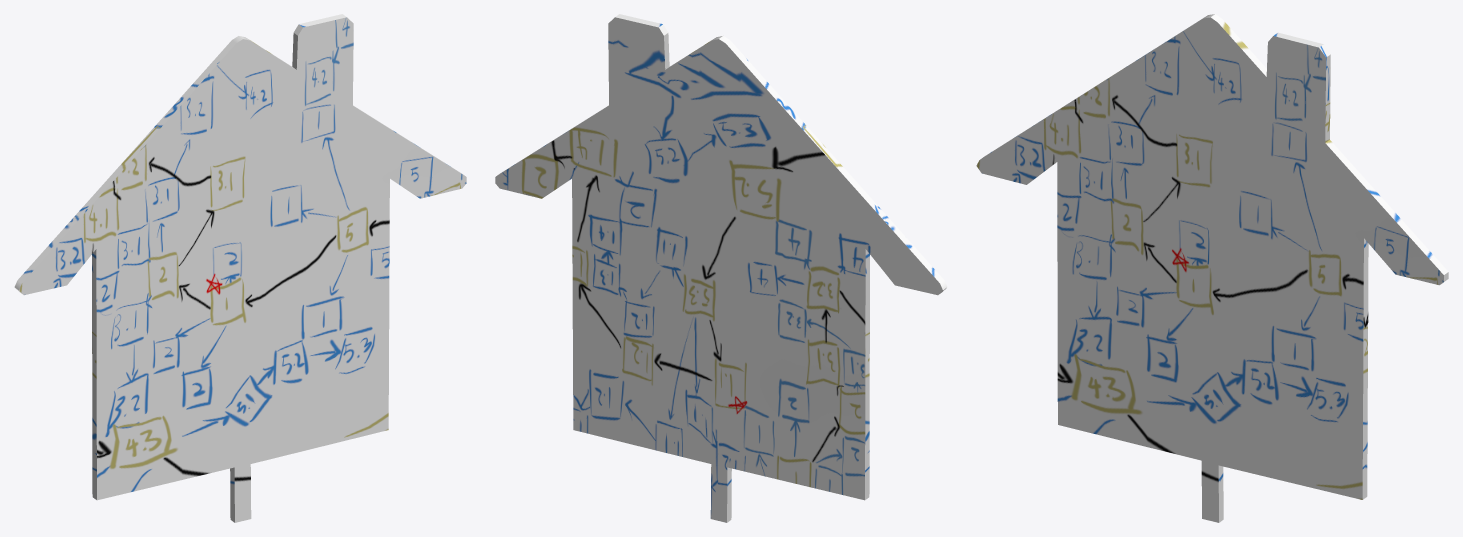
File: mhy_house.fbx
The picture shows the model from 3 angles, left to right: view 1: azimuth 30°, elevation 25°; view 2: azimuth 150°, elevation 25°; view 3: azimuth 330°, elevation 25°; orthographic projection. The views are drawn at different scales.
Visible parts, largest first — view 1: pCube3; view 2: pCube3; view 3: pCube3.
Boxes of the visible parts, box(x1,y1,x2,y2) form: pCube3: box(14, 14, 466, 522); pCube3: box(495, 14, 947, 522); pCube3: box(976, 14, 1448, 522).
Size of the model in its own units: 290 by 298 by 5.
